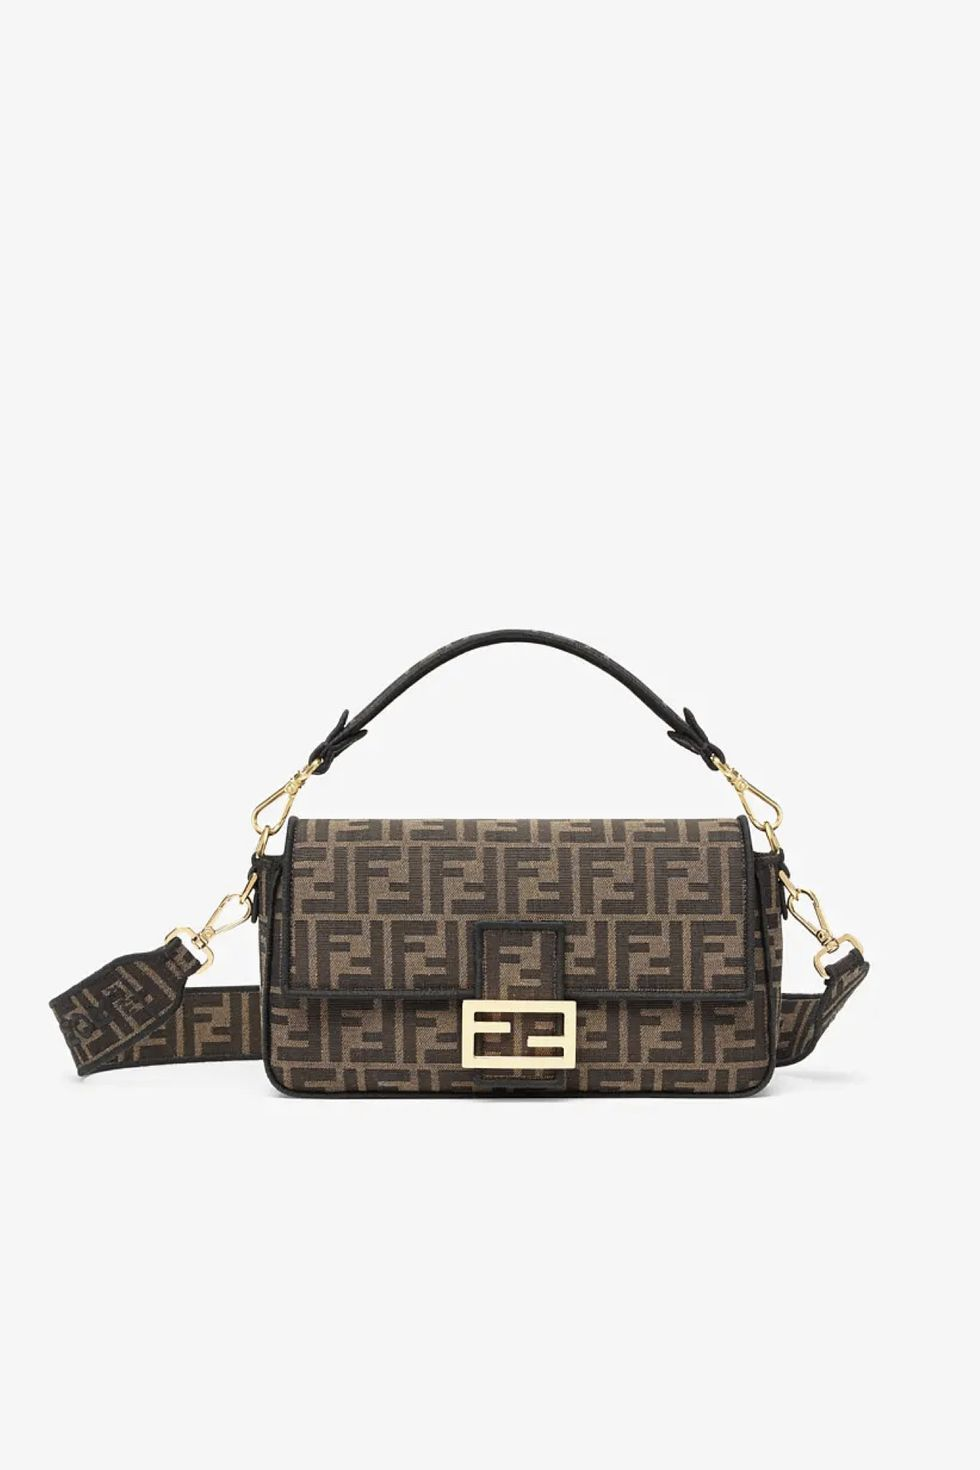cartera: (45, 614, 872, 1113)
tela: (245, 814, 790, 1108)
